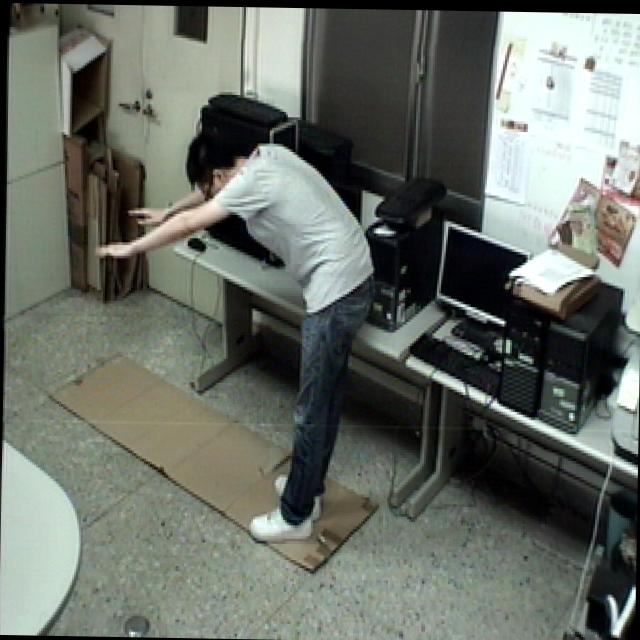bend: (86, 125, 385, 550)
